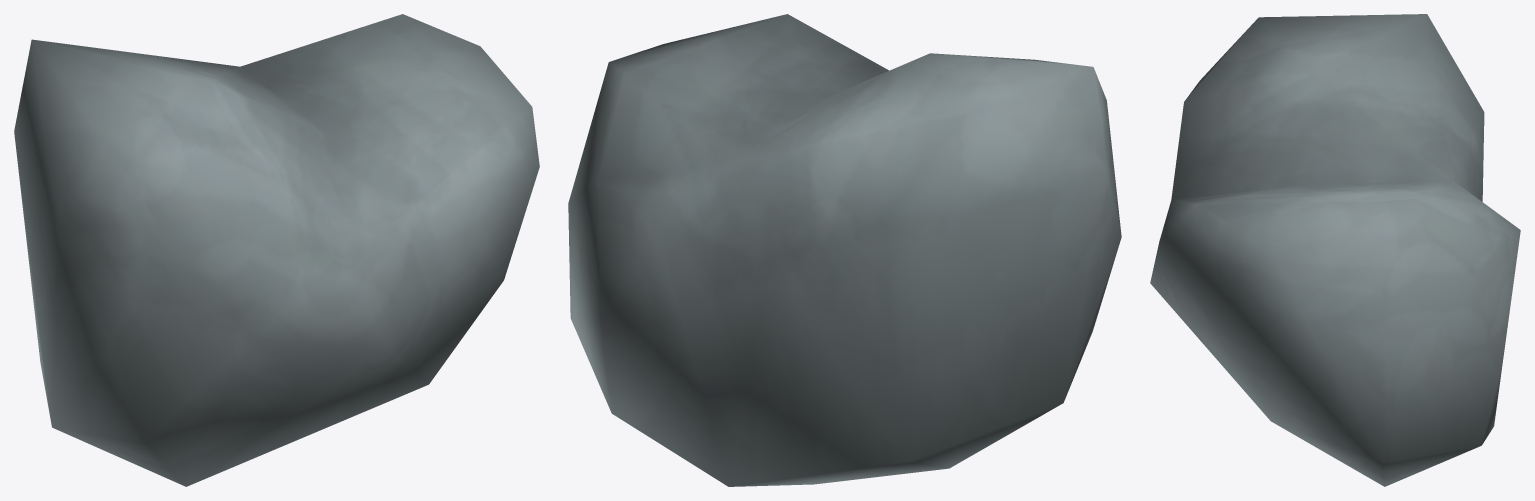
The model's file is Mineral_nugget_silver.fbx.
3 renders of one model, left to right at view 1: azimuth 30°, elevation 25°; view 2: azimuth 150°, elevation 25°; view 3: azimuth 270°, elevation 25°, orthographic. The views are drawn at different scales.
Visible parts, largest first — view 1: Mineral_nugget_silver; view 2: Mineral_nugget_silver; view 3: Mineral_nugget_silver.
Part boxes in pixels (box(x1,y1,x2,y2)): Mineral_nugget_silver: box(14, 14, 539, 486); Mineral_nugget_silver: box(568, 14, 1121, 486); Mineral_nugget_silver: box(1150, 14, 1520, 486).
Bounding box in the file's own units: 67.33 × 56.52 × 53.27.
